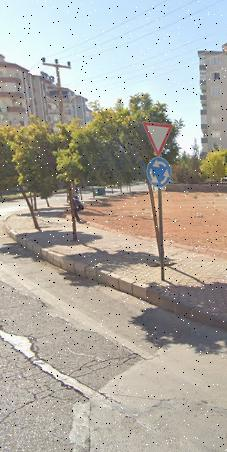crossroads: (144, 155, 173, 191)
